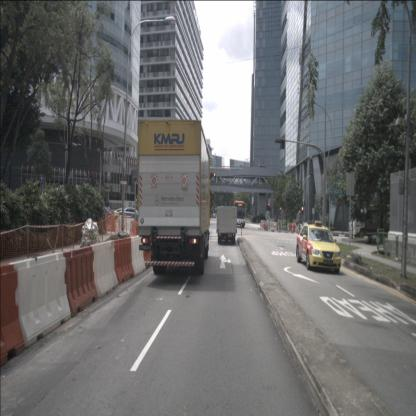barrier: (10, 251, 71, 349), (62, 247, 98, 318), (90, 240, 119, 298), (113, 238, 134, 284), (130, 235, 146, 276), (94, 213, 116, 232), (116, 217, 135, 236), (129, 221, 140, 240), (268, 222, 277, 231), (262, 220, 268, 230), (292, 223, 296, 232), (289, 223, 292, 231), (291, 223, 294, 231)
